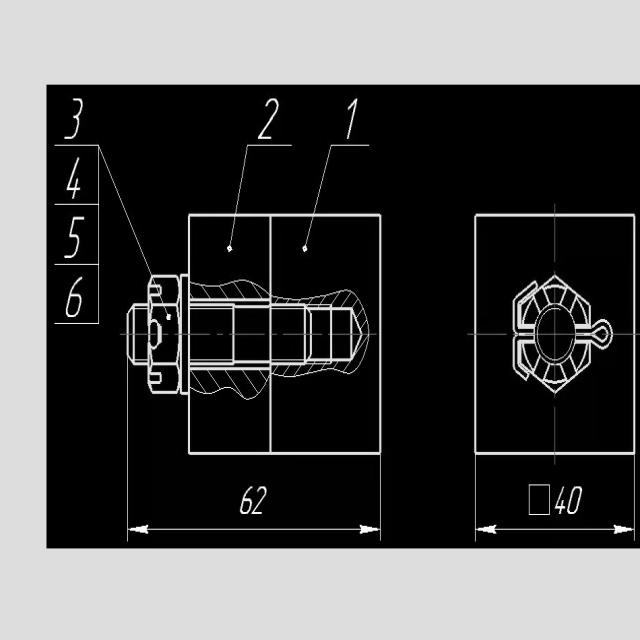marking_line: (125, 457, 384, 547), (473, 457, 637, 541), (313, 138, 372, 213), (232, 141, 294, 212), (126, 366, 148, 544)
numeric: (256, 95, 282, 143), (62, 152, 85, 200), (62, 274, 86, 320), (63, 93, 83, 144), (63, 215, 83, 265), (345, 94, 360, 139), (251, 483, 269, 517), (238, 485, 254, 518), (567, 486, 583, 515), (555, 483, 567, 517)
